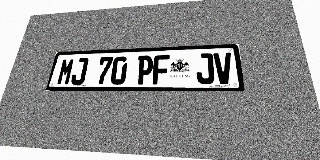0: (110, 56, 128, 85)
7: (95, 57, 113, 85)
F: (152, 55, 169, 84)
J: (196, 53, 215, 84), (70, 58, 89, 85)
M: (56, 58, 75, 85)
P: (136, 55, 153, 85)
V: (213, 52, 234, 84)
